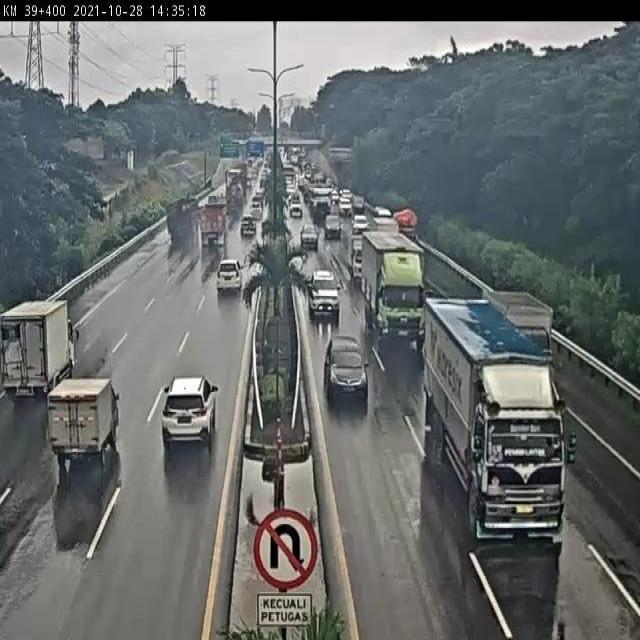big truck: (413, 298, 578, 538), (361, 236, 440, 347), (162, 196, 193, 256), (195, 206, 228, 262)
car: (42, 364, 127, 464), (153, 362, 213, 449), (327, 340, 379, 412), (306, 274, 347, 326), (209, 261, 245, 307), (319, 206, 342, 242), (295, 219, 321, 248), (233, 222, 257, 250), (88, 461, 89, 463)
small truck: (487, 271, 577, 380), (0, 304, 72, 403)
